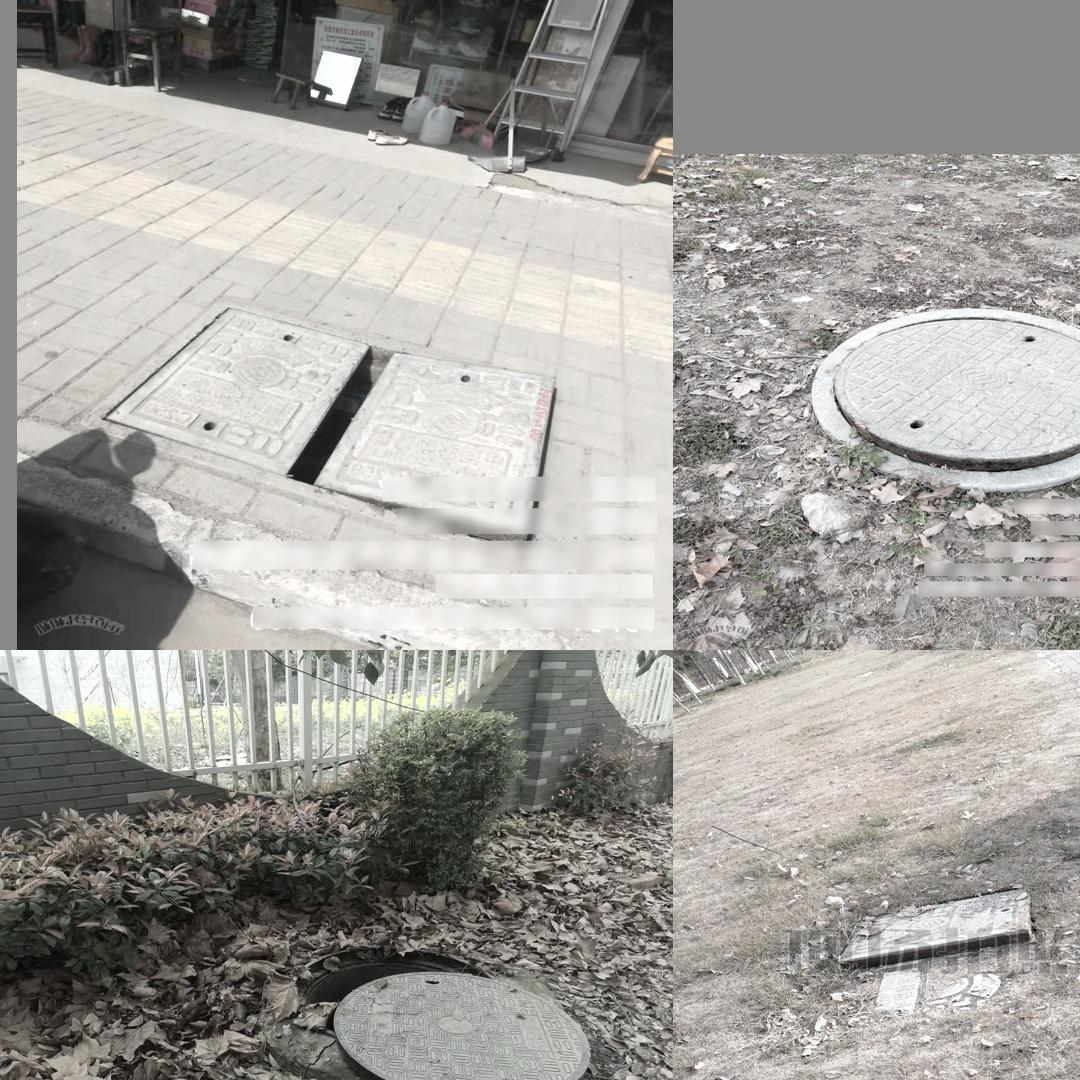uncovered: (101, 304, 556, 547), (809, 307, 1080, 490), (299, 941, 596, 1080), (824, 881, 1071, 969)
